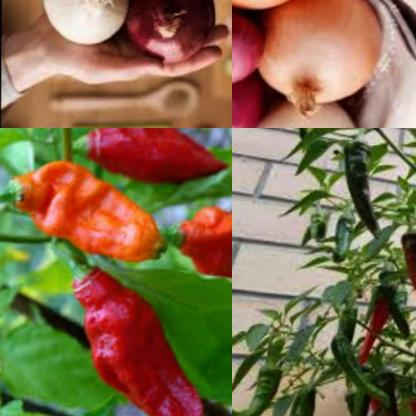hot pepper: (63, 257, 205, 416), (3, 158, 160, 274), (68, 128, 228, 194), (316, 319, 396, 416), (165, 198, 232, 291), (332, 134, 386, 244), (232, 335, 292, 416), (351, 292, 400, 373), (391, 225, 416, 318)
onion: (258, 0, 378, 113), (123, 0, 218, 67), (42, 0, 129, 47), (247, 101, 364, 128), (232, 14, 259, 89), (232, 73, 261, 128)
